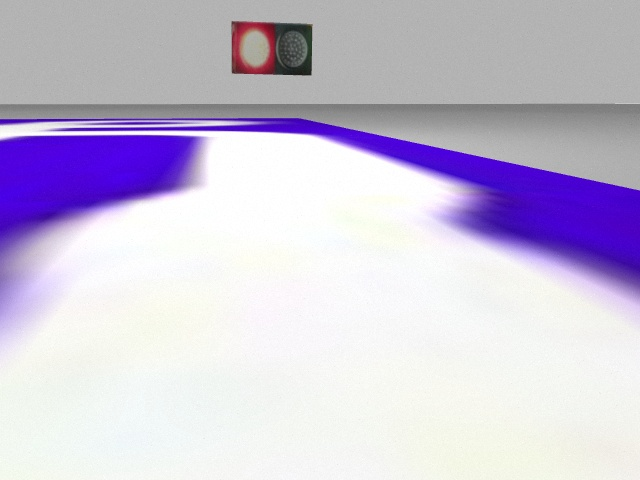red: (232, 20, 276, 74)
